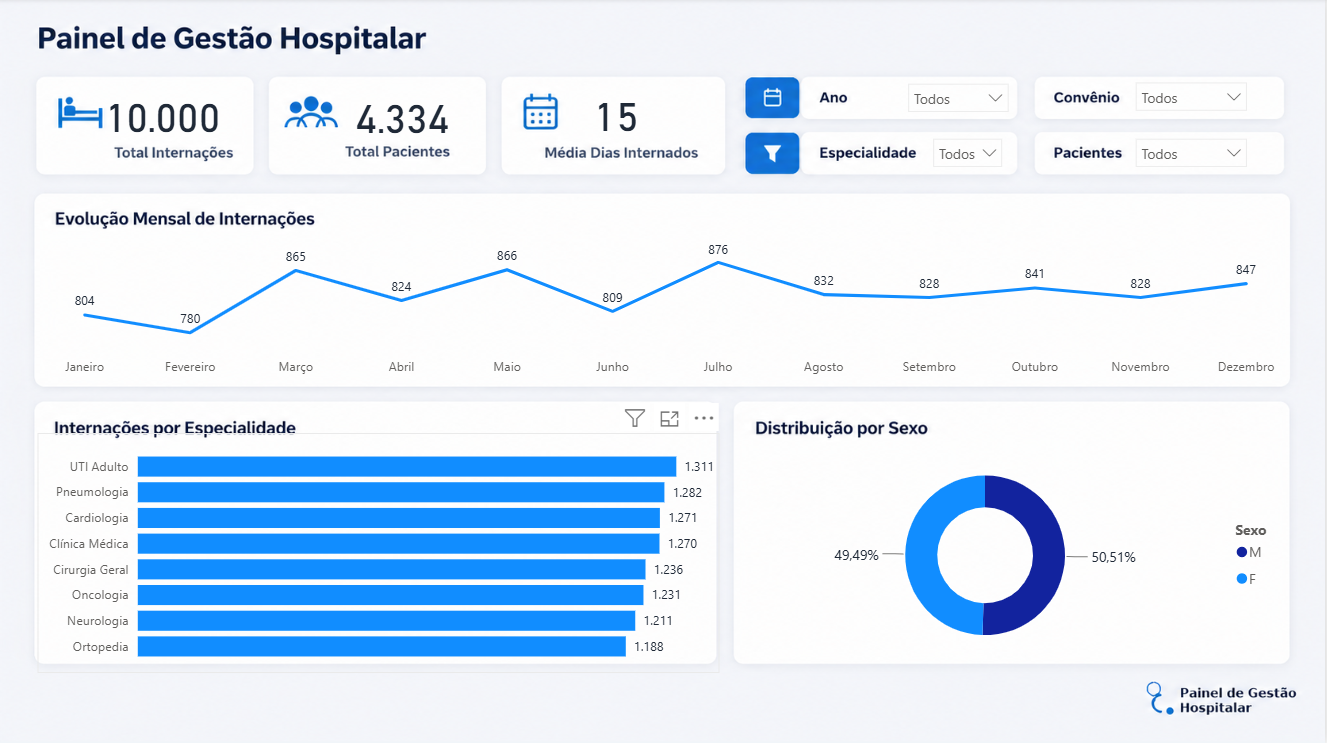

Layout of this report page (visuals, bound fields, positions):
{"tool":"powerbi","page":{"name":"Página 1","canvas":[1280,720],"ordinal":0},"visuals":[{"type":"card","fields":{"Values":["Medidas.Total Internações"]},"box":[47.5,78.8,220,68],"z":0},{"type":"textbox","box":[20.6,10,349.9,61.7],"z":1000},{"type":"card","fields":{"Values":["Medidas.Total Pacientes"]},"box":[278.8,88.8,220,47.5],"z":2000},{"type":"card","fields":{"Values":["Medidas.Média Dias Internado"]},"box":[485,85,220,54.3],"z":3000},{"type":"slicer","fields":{"Values":["Dim_Calendario.Ano"]},"box":[866.2,72.3,116.9,40],"z":4000},{"type":"slicer","fields":{"Values":["Dim_Convenios.Convenio"]},"box":[1086.2,71.2,127.5,46.2],"z":5000},{"type":"lineChart","title":"Evolução Mensal de Internações","fields":{"Category":["Dim_Calendario.Nome_Mes"],"Y":["Medidas.Total Internações"]},"box":[36.2,225,1212.5,150],"z":6000},{"type":"barChart","title":"Internações por Especialidade","fields":{"Category":["Dim_Especialidades.Especialidade"],"Y":["Medidas.Total Internações"]},"box":[36.2,420,658.8,231.2],"z":7000},{"type":"donutChart","title":"Distribuição por Sexo","fields":{"Category":["Dim_Pacientes.Sexo"],"Y":["Medidas.Total Internações"]},"box":[705,433.8,543.8,207.5],"z":8000},{"type":"slicer","fields":{"Values":["Dim_Especialidades.Especialidade"]},"box":[890,125.6,87,46],"z":9000},{"type":"slicer","fields":{"Values":["Dim_Pacientes.Cidade"]},"box":[1086.2,125,127.5,51.2],"z":10000}]}

Visuals, with their boxes in screenshot pixels (x1, y1, x2, y2), scaled from the page's 1280x720 canvas onto the 1327x743 screenshot:
card - Medidas.Total Internações: box=[49, 81, 277, 151]
textbox: box=[21, 10, 384, 74]
card - Medidas.Total Pacientes: box=[289, 92, 517, 141]
card - Medidas.Média Dias Internado: box=[503, 88, 731, 144]
slicer - Dim_Calendario.Ano: box=[898, 75, 1019, 116]
slicer - Dim_Convenios.Convenio: box=[1126, 73, 1258, 121]
"Evolução Mensal de Internações" lineChart: box=[38, 232, 1295, 387]
"Internações por Especialidade" barChart: box=[38, 433, 721, 672]
"Distribuição por Sexo" donutChart: box=[731, 448, 1295, 662]
slicer - Dim_Especialidades.Especialidade: box=[923, 130, 1013, 177]
slicer - Dim_Pacientes.Cidade: box=[1126, 129, 1258, 182]
